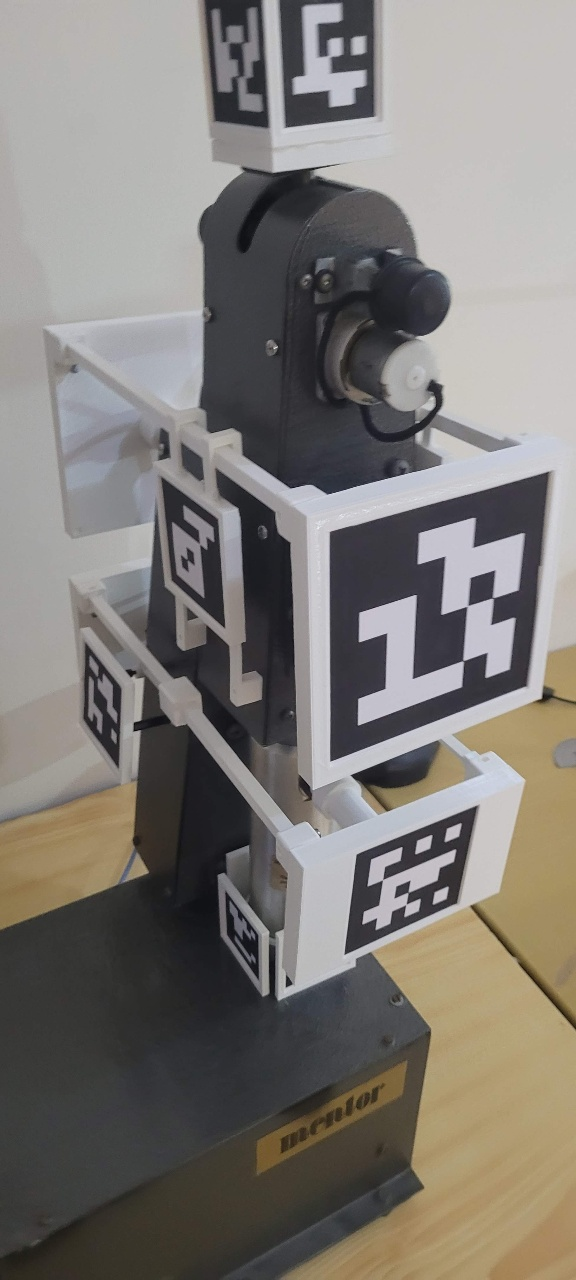Robot: (38, 4, 564, 1008)
